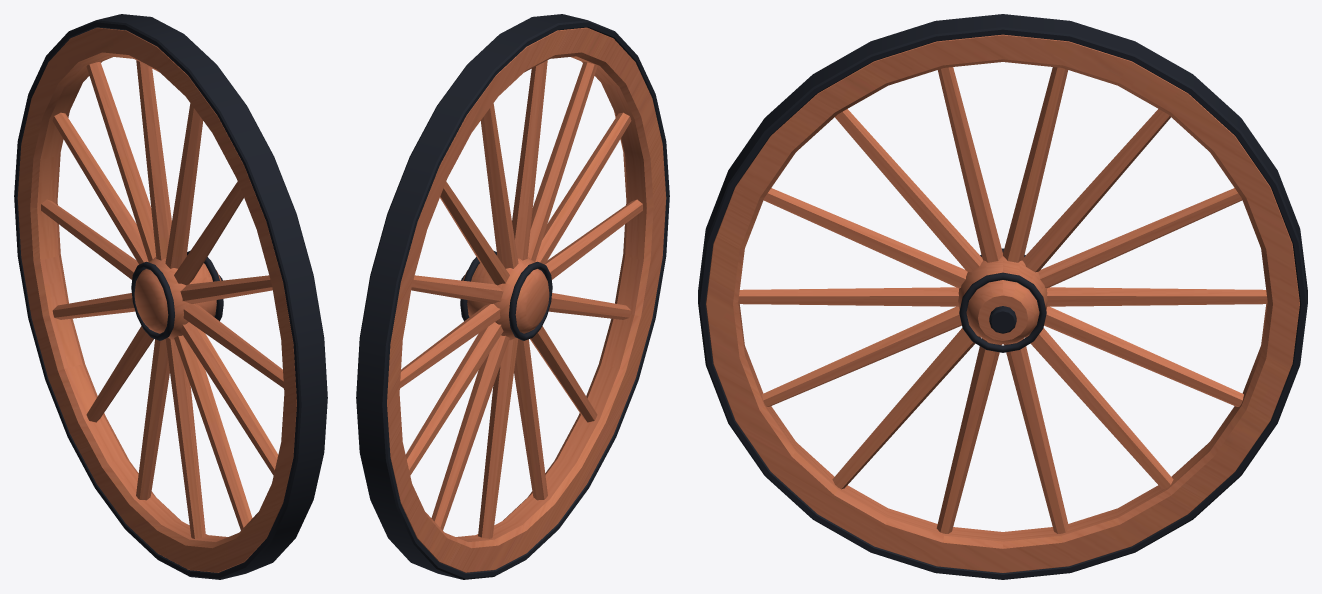
The model's file is rueda_rl.obj.
3 views of the same model, side by side, from view 1: azimuth 30°, elevation 25°; view 2: azimuth 150°, elevation 25°; view 3: azimuth 270°, elevation 25° (orthographic). The views are drawn at different scales.
Parts seen in each view (by area): view 1: covered-wagon_wheel_rl; view 2: covered-wagon_wheel_rl; view 3: covered-wagon_wheel_rl.
Part boxes in pixels (x1,y1,x2,y2): covered-wagon_wheel_rl: (14, 14, 327, 579); covered-wagon_wheel_rl: (356, 14, 669, 579); covered-wagon_wheel_rl: (698, 14, 1307, 579).
Bounding box in the file's own units: 0.2 × 1.36 × 1.36.
Materials: 2 (1 with a texture image).
